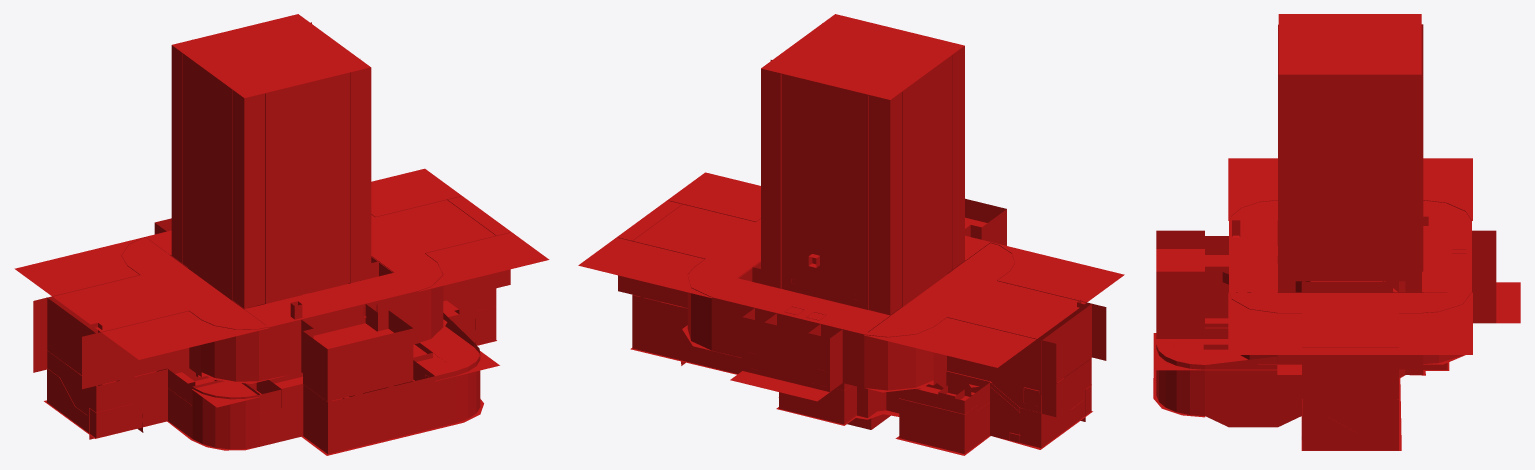
Rendered from _collision_core.FBX.
3 renders of one model, left to right at view 1: azimuth 30°, elevation 25°; view 2: azimuth 150°, elevation 25°; view 3: azimuth 270°, elevation 25°, orthographic. The views are drawn at different scales.
Parts seen in each view (by area): view 1: _collision_core; view 2: _collision_core; view 3: _collision_core.
Part boxes in pixels (bbox=[...]): _collision_core: bbox=[14, 14, 549, 455]; _collision_core: bbox=[578, 14, 1124, 455]; _collision_core: bbox=[1153, 14, 1520, 450].
Bounding box in the file's own units: 7386 × 5758 × 5564.
